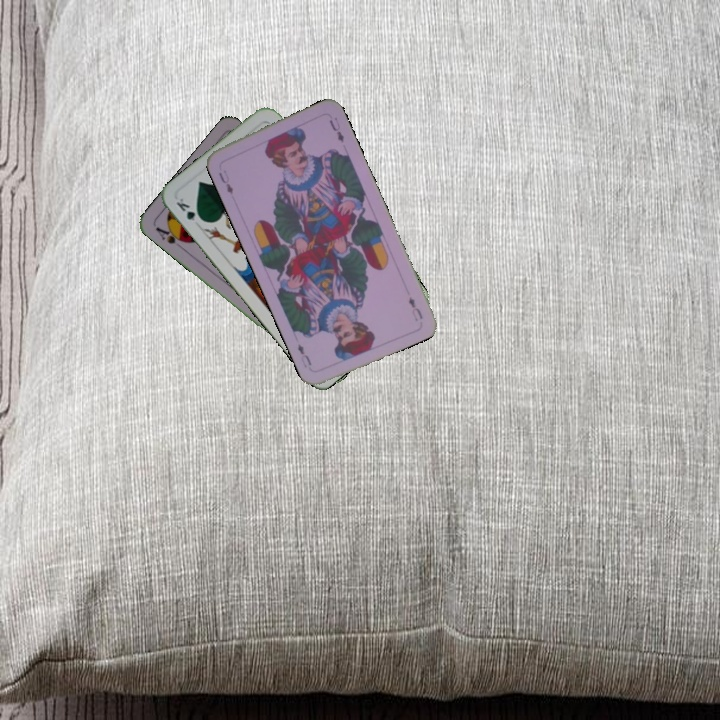EU: (214, 166, 236, 197), (404, 293, 425, 324)
GK: (172, 194, 206, 225)
SA: (152, 223, 189, 251)
